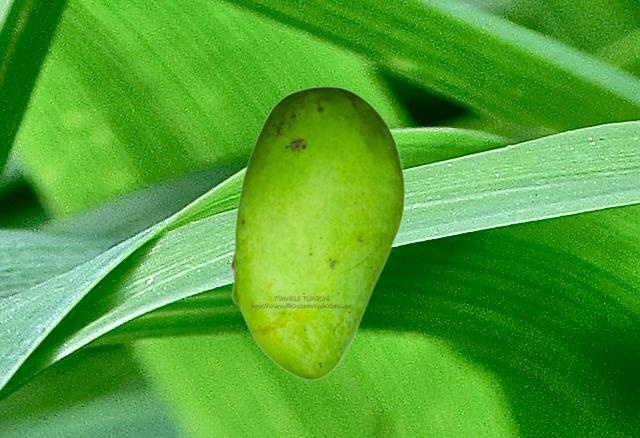green_mango: (229, 85, 405, 380)
